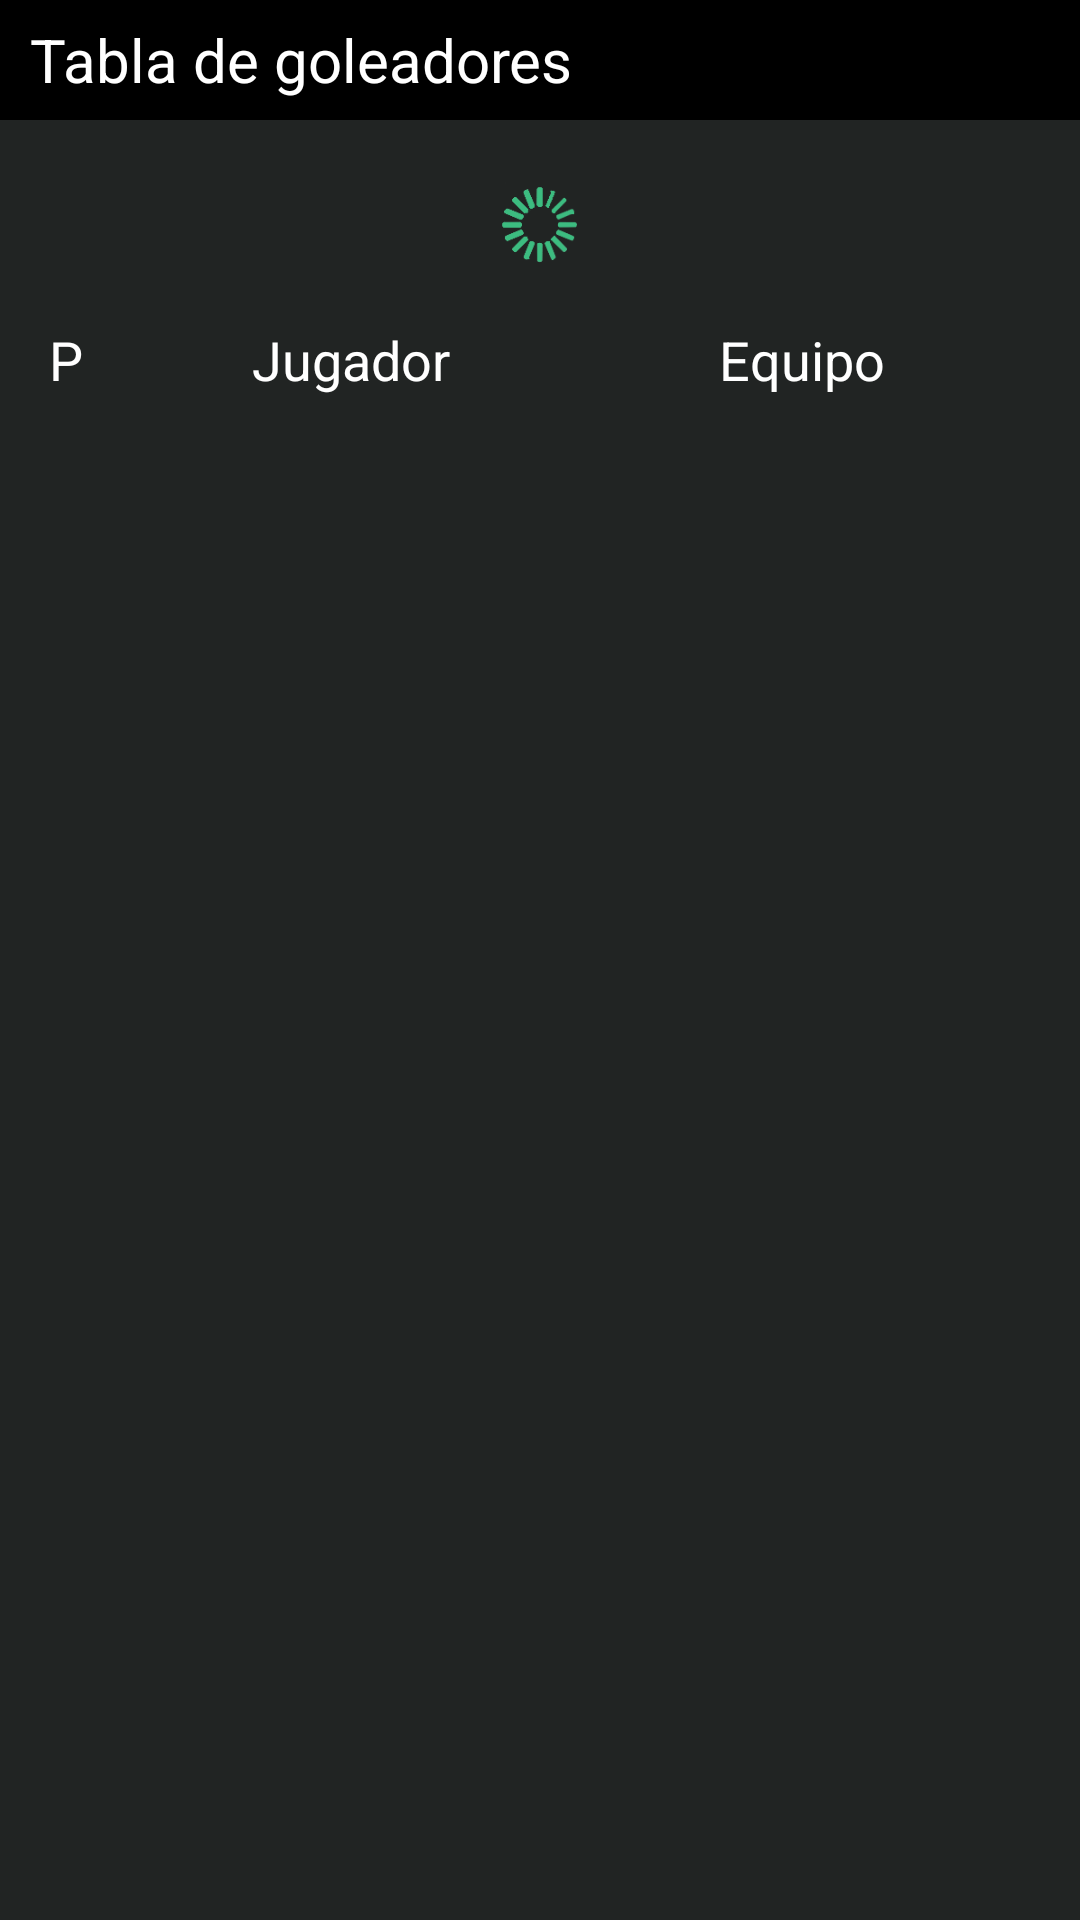

Icons on this 1080px×1920px Android screen, each with its box as {"x1": x1, "y1": y1, "x2": x2, "y2": y2}:
cargando: {"x1": 502, "y1": 187, "x2": 577, "y2": 262}
